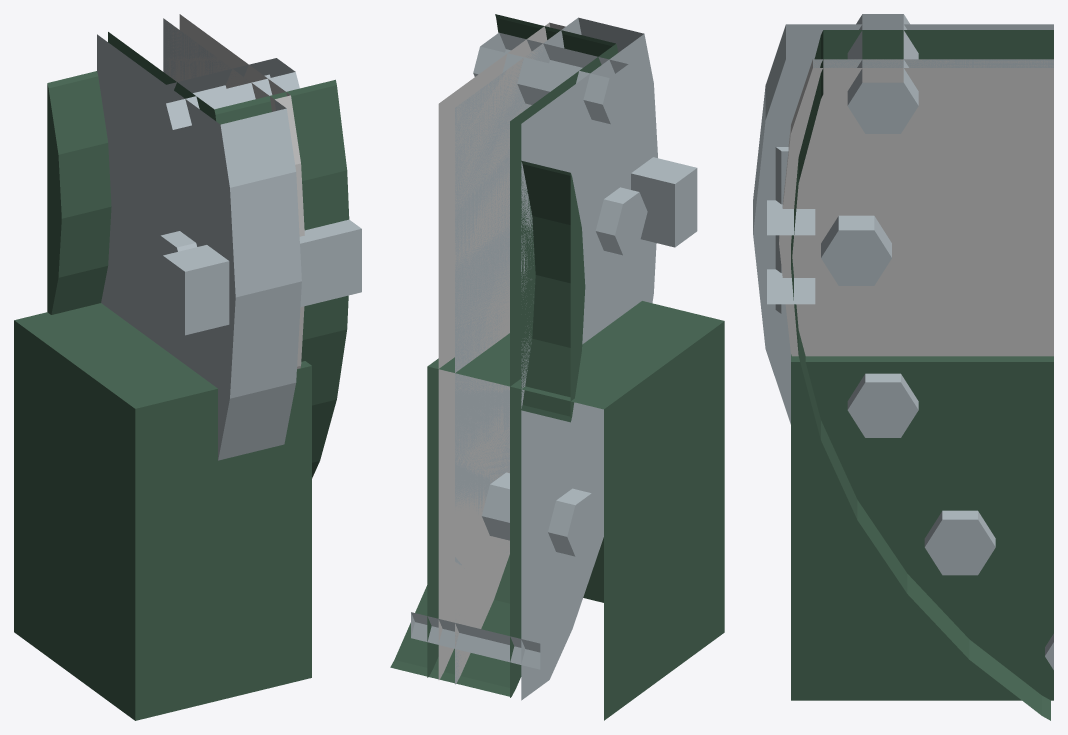
Rendered from cell_40.obj.
3 views of the same model, side by side, from view 1: azimuth 30°, elevation 25°; view 2: azimuth 150°, elevation 25°; view 3: azimuth 270°, elevation 25° (orthographic). The views are drawn at different scales.
Size of the model in its own units: 0.39 by 1 by 0.435.
